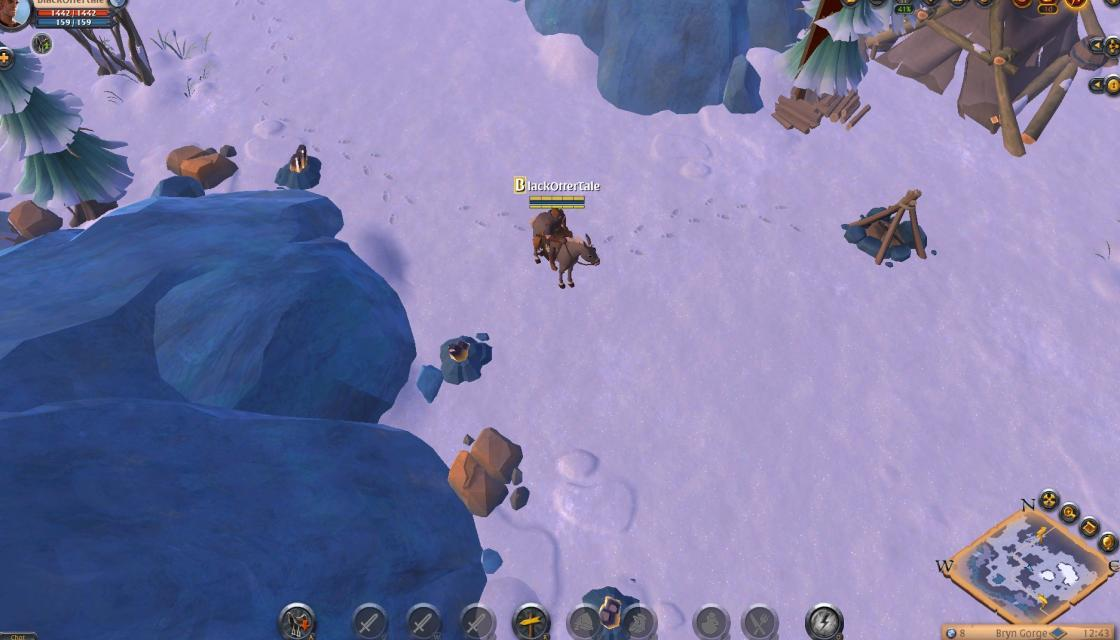copperore: (436, 330, 506, 384), (578, 583, 644, 640), (270, 140, 328, 191)
limestone: (445, 426, 529, 516), (163, 140, 236, 186), (4, 197, 65, 237)
